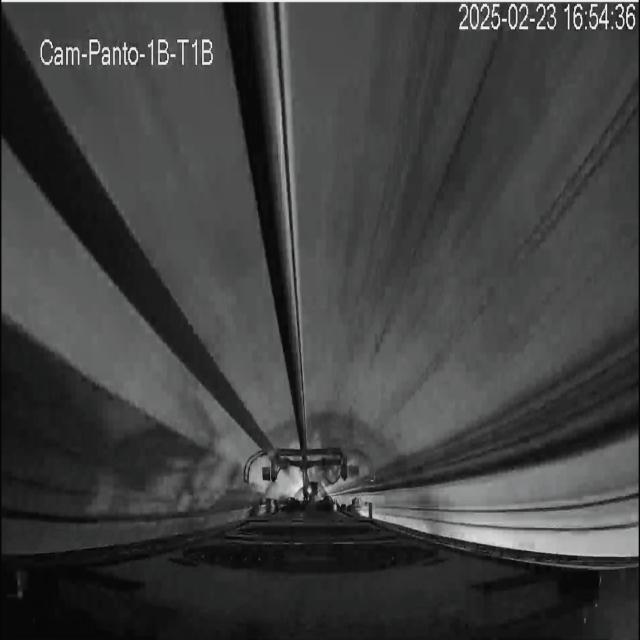Camera Stamp: (31, 26, 221, 72)
Date Stamp: (458, 3, 637, 33)
No - Spark: (246, 445, 355, 505)
